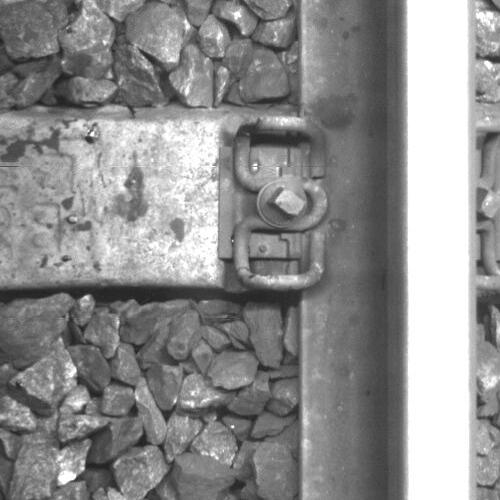rail: (403, 1, 476, 500)
tie_concr: (1, 123, 295, 289)
vossloh: (219, 114, 327, 291)
